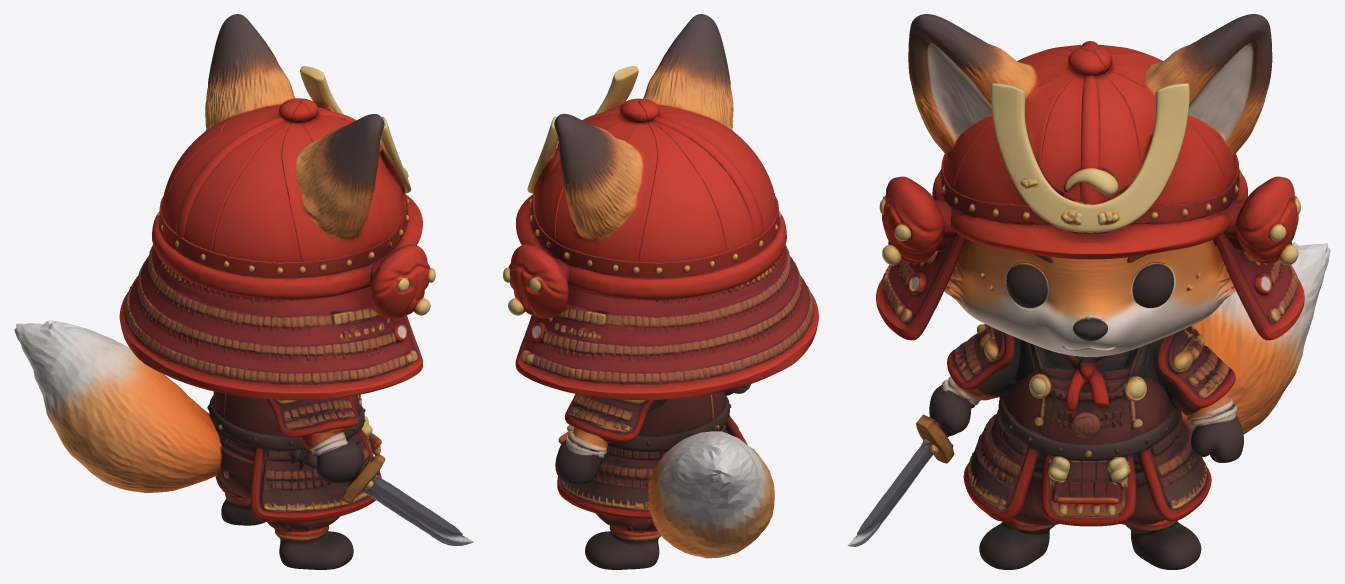
File: 狐狸武士_draco.glb
3 views of the same model, side by side, from view 1: azimuth 30°, elevation 25°; view 2: azimuth 150°, elevation 25°; view 3: azimuth 270°, elevation 25° (orthographic). The views are drawn at different scales.
Parts seen in each view (by area): view 1: tripo_node_85272750-0ead-49be-9145-52b3733f008d; view 2: tripo_node_85272750-0ead-49be-9145-52b3733f008d; view 3: tripo_node_85272750-0ead-49be-9145-52b3733f008d.
Boxes of the visible parts, left/top/right/bottom form: tripo_node_85272750-0ead-49be-9145-52b3733f008d: left=14, top=14, right=473, bottom=569; tripo_node_85272750-0ead-49be-9145-52b3733f008d: left=503, top=14, right=818, bottom=569; tripo_node_85272750-0ead-49be-9145-52b3733f008d: left=847, top=14, right=1330, bottom=569.
Size of the model in its own units: 0.6588 by 1 by 0.7961.
1 material, 1 textured.
